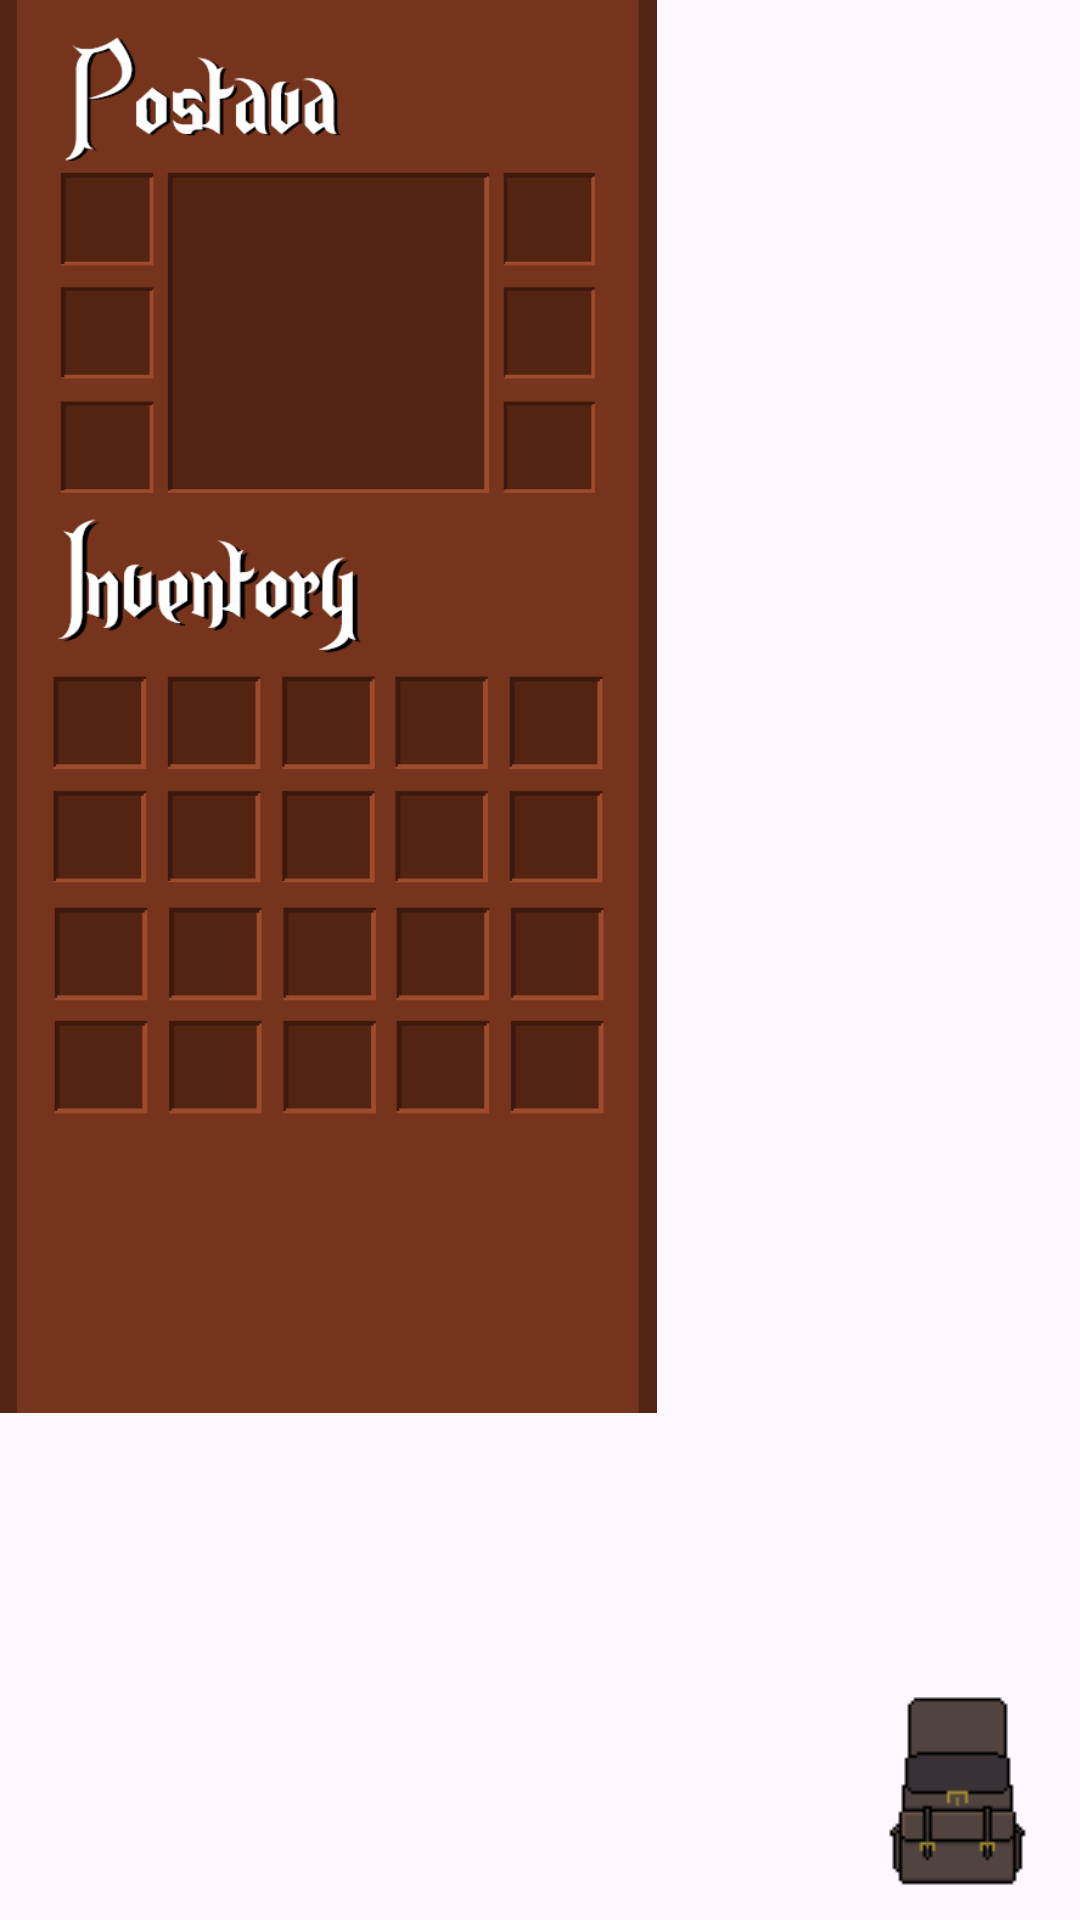

Icon click points for this 1080 × 1920 phone screenshot, format (x=x, y=y):
bagr: (x=957, y=1791)
